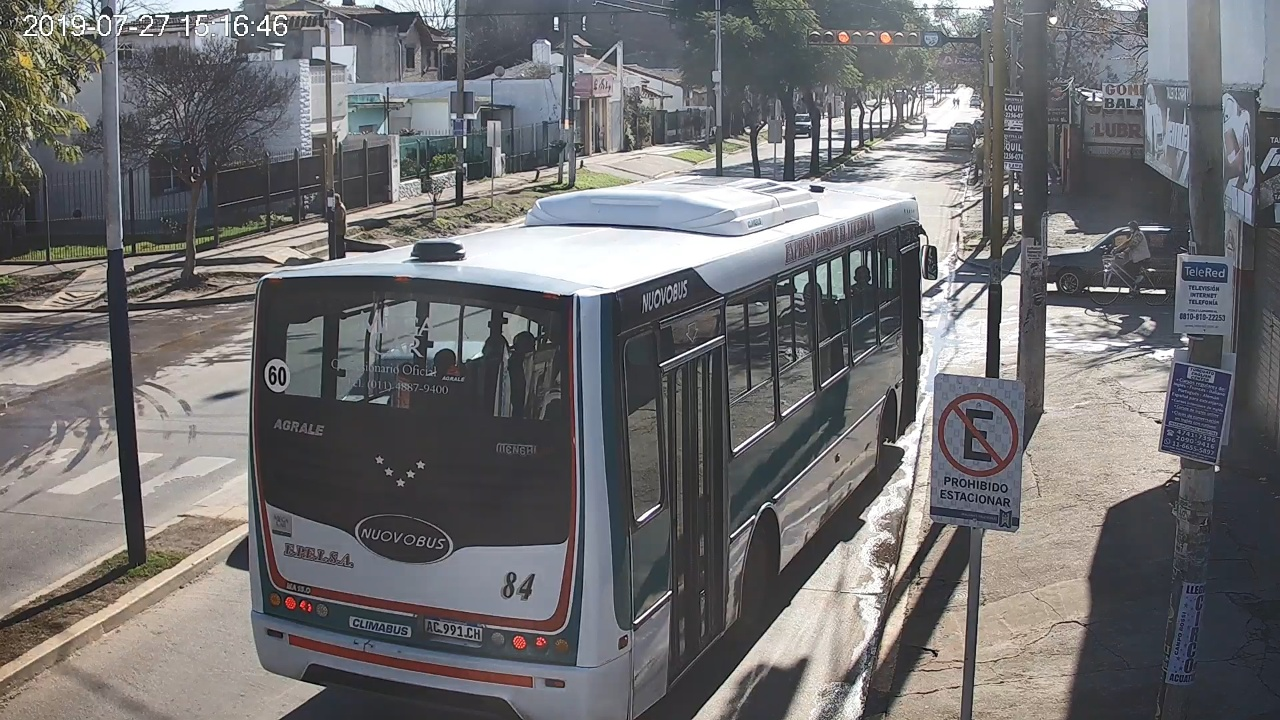bus: (247, 177, 940, 720)
traffic light: (837, 29, 919, 46)
